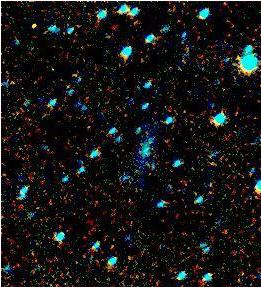star: (16, 7, 46, 37)
